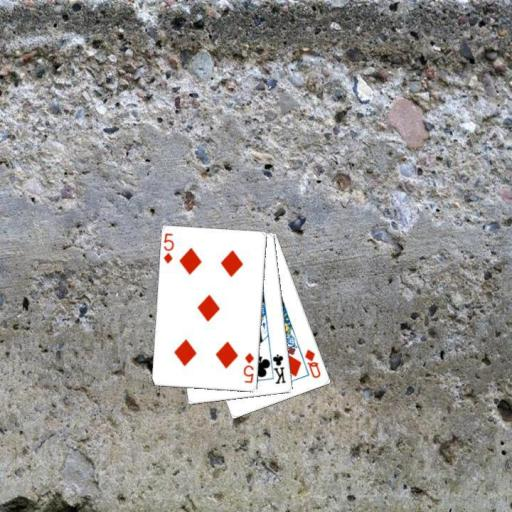5D: (240, 350, 256, 385), (161, 231, 176, 266)
KC: (267, 349, 287, 386)
QD: (302, 346, 322, 380)
